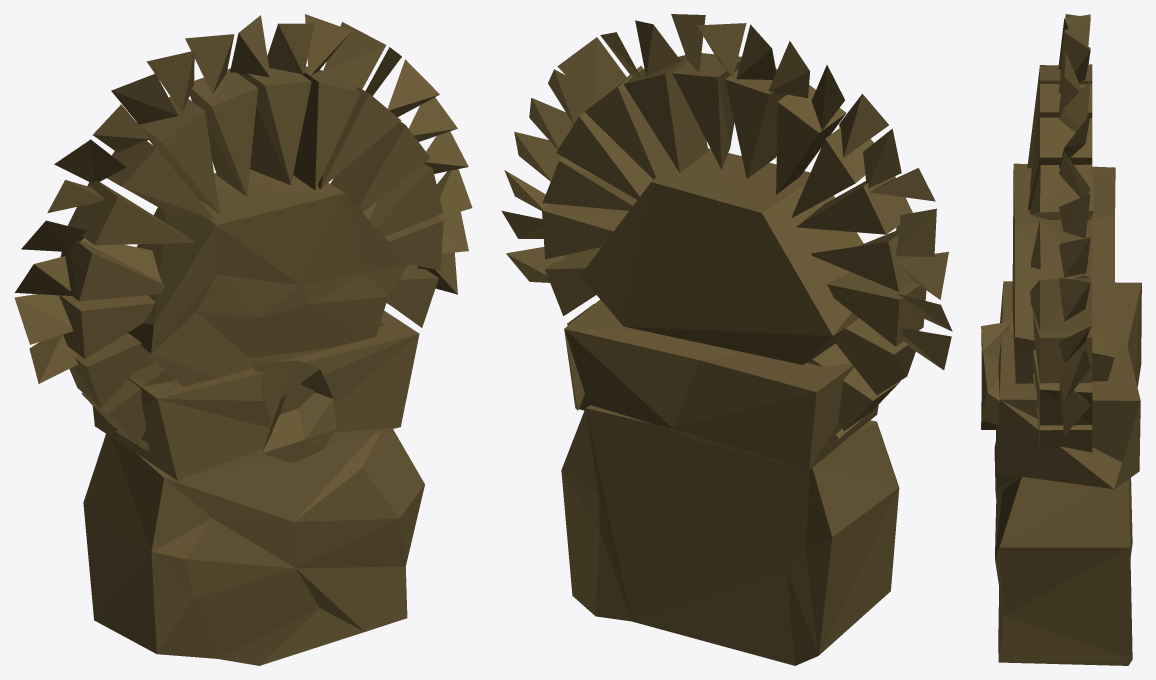
Rendered from aztec-god.lod2.glb.
3 views of the same model, side by side, from view 1: azimuth 30°, elevation 25°; view 2: azimuth 150°, elevation 25°; view 3: azimuth 270°, elevation 25° (orthographic). The views are drawn at different scales.
Parts seen in each view (by area): view 1: Aztec God_Aztec God_0; view 2: Aztec God_Aztec God_0; view 3: Aztec God_Aztec God_0.
Boxes of the visible parts, x1,y1,x2,y2 form: Aztec God_Aztec God_0: (14, 14, 472, 665); Aztec God_Aztec God_0: (501, 14, 952, 665); Aztec God_Aztec God_0: (981, 14, 1141, 665).
Size of the model in its own units: 3.79 by 4.96 by 1.24.
